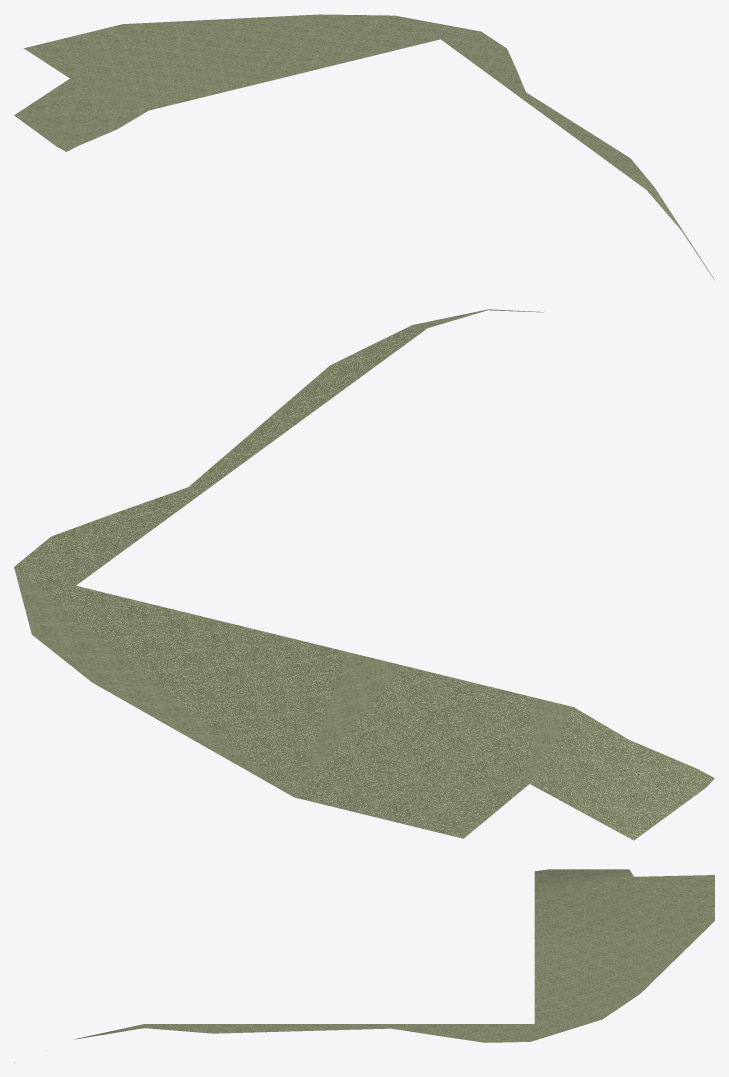
The model's file is kd_stage_135ded_4_123_exterior_piece_1.glb.
The picture shows the model from 3 angles, top to bottom: view 1: azimuth 30°, elevation 25°; view 2: azimuth 150°, elevation 25°; view 3: azimuth 270°, elevation 25°; orthographic projection. The views are drawn at different scales.
Visible parts, largest first — view 1: kd_stage_135ded_4_123_exterior_piece_1; view 2: kd_stage_135ded_4_123_exterior_piece_1; view 3: kd_stage_135ded_4_123_exterior_piece_1.
Boxes of the visible parts, x1,y1,x2,y2 form: kd_stage_135ded_4_123_exterior_piece_1: [14, 14, 714, 279]; kd_stage_135ded_4_123_exterior_piece_1: [14, 309, 714, 840]; kd_stage_135ded_4_123_exterior_piece_1: [14, 869, 714, 1062].
Size of the model in its own units: 4.04 by 0.3735 by 6.19.
1 material, 1 textured.
